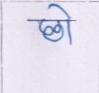e_matra: (49, 4, 73, 19)
